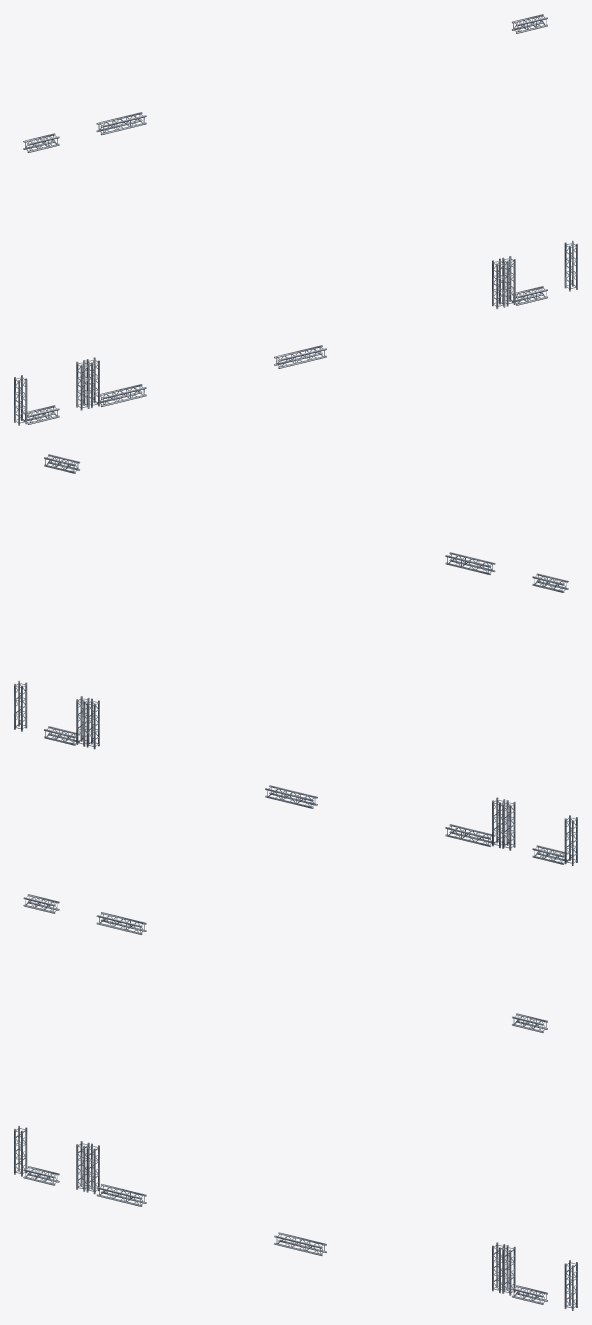
The model's file is titantron.glb.
3 renders of one model, top to bottom at view 1: azimuth 30°, elevation 25°; view 2: azimuth 150°, elevation 25°; view 3: azimuth 330°, elevation 25°, orthographic.
Visible parts, largest first — view 1: metal_truss, LeftWarFrame_Right, CenterFrame_Top, CenterFrame_Bot, CenterFrame_Right, RightWarFrame_Left, LeftWarFrame_Left, RightWarFrame_Right; view 2: metal_truss, LeftWarFrame_Right, CenterFrame_Top, CenterFrame_Right, CenterFrame_Bot, RightWarFrame_Left, LeftWarFrame_Left, RightWarFrame_Right; view 3: metal_truss, RightWarFrame_Left, CenterFrame_Top, CenterFrame_Bot, CenterFrame_Left, LeftWarFrame_Right, RightWarFrame_Right, LeftWarFrame_Left.
Boxes of the visible parts, <box> form: metal_truss: <box>274,345,326,368</box>; LeftWarFrame_Right: <box>76,360,89,410</box>; CenterFrame_Top: <box>96,112,146,135</box>; CenterFrame_Bot: <box>96,384,146,406</box>; CenterFrame_Right: <box>492,258,505,309</box>; RightWarFrame_Left: <box>502,256,515,306</box>; LeftWarFrame_Left: <box>14,375,27,425</box>; RightWarFrame_Right: <box>564,240,577,291</box>; metal_truss: <box>265,785,317,808</box>; LeftWarFrame_Right: <box>502,800,515,850</box>; CenterFrame_Top: <box>445,552,495,575</box>; CenterFrame_Right: <box>86,698,99,749</box>; CenterFrame_Bot: <box>445,824,495,846</box>; RightWarFrame_Left: <box>76,696,89,746</box>; LeftWarFrame_Left: <box>564,815,577,865</box>; RightWarFrame_Right: <box>14,680,27,731</box>; metal_truss: <box>274,1232,326,1255</box>; RightWarFrame_Left: <box>502,1245,515,1295</box>; CenterFrame_Top: <box>96,912,146,935</box>; CenterFrame_Bot: <box>96,1184,146,1206</box>; CenterFrame_Left: <box>86,1143,99,1194</box>; LeftWarFrame_Right: <box>76,1141,89,1191</box>; RightWarFrame_Right: <box>564,1260,577,1310</box>; LeftWarFrame_Left: <box>14,1125,27,1176</box>.
Bounding box in the file's own units: 53.82 × 26.3 × 0.8631.
Materials: 1 (1 with a texture image).
